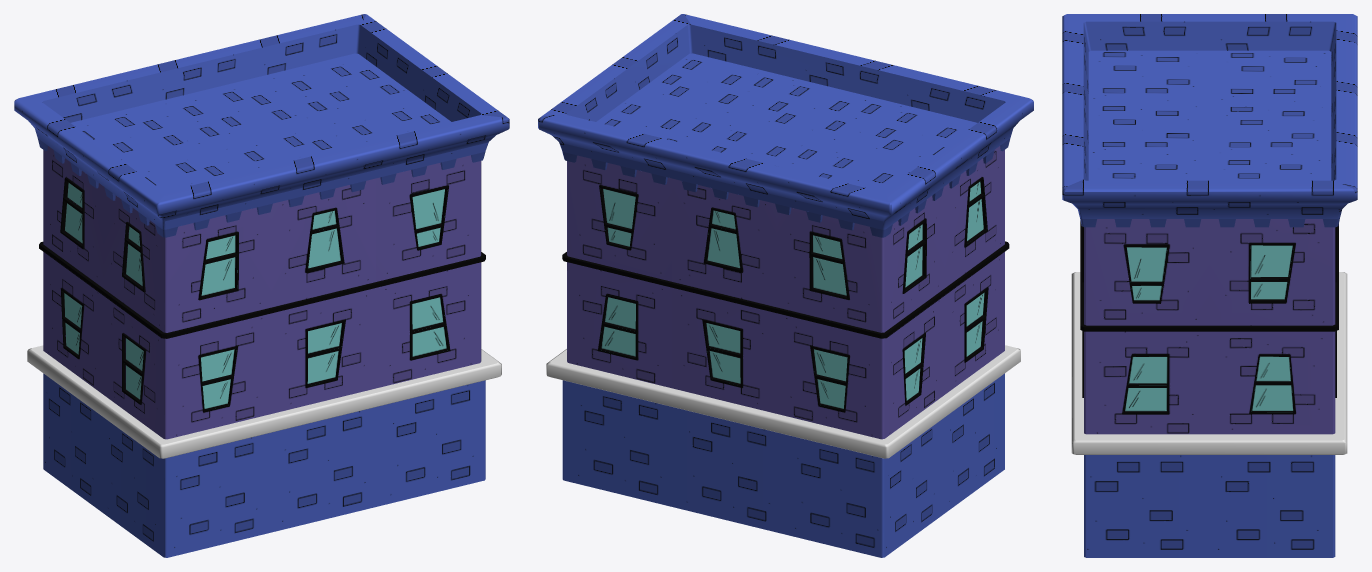
The model's file is 3x2w_Building.fbx.
3 renders of one model, left to right at view 1: azimuth 30°, elevation 25°; view 2: azimuth 150°, elevation 25°; view 3: azimuth 270°, elevation 25°, orthographic. The views are drawn at different scales.
Parts seen in each view (by area): view 1: 2x003, roof002, ground floor001, bar001; view 2: 2x003, roof002, ground floor001, bar001; view 3: roof002, 2x003, ground floor001, bar001.
Boxes of the visible parts, bbox=[...] form: 2x003: bbox=[39, 146, 485, 439]; roof002: bbox=[14, 14, 509, 237]; ground floor001: bbox=[43, 373, 485, 557]; bar001: bbox=[27, 345, 501, 458]; 2x003: bbox=[562, 146, 1009, 439]; roof002: bbox=[538, 14, 1033, 237]; ground floor001: bbox=[562, 373, 1004, 557]; bar001: bbox=[546, 345, 1020, 458]; roof002: bbox=[1062, 14, 1357, 227]; 2x003: bbox=[1080, 219, 1338, 434]; ground floor001: bbox=[1084, 455, 1335, 557]; bar001: bbox=[1071, 272, 1347, 454].
Size of the model in its own units: 8.31 by 8.23 by 5.87.
